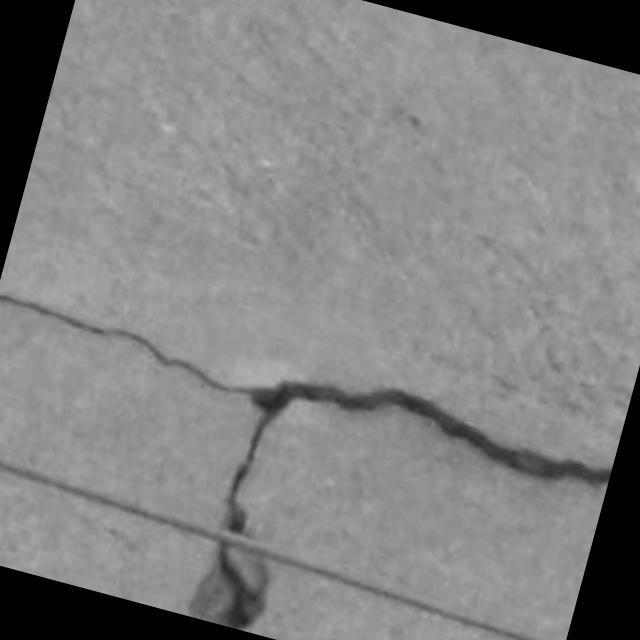crack: (0, 293, 611, 629), (223, 381, 611, 533), (0, 293, 256, 395)
